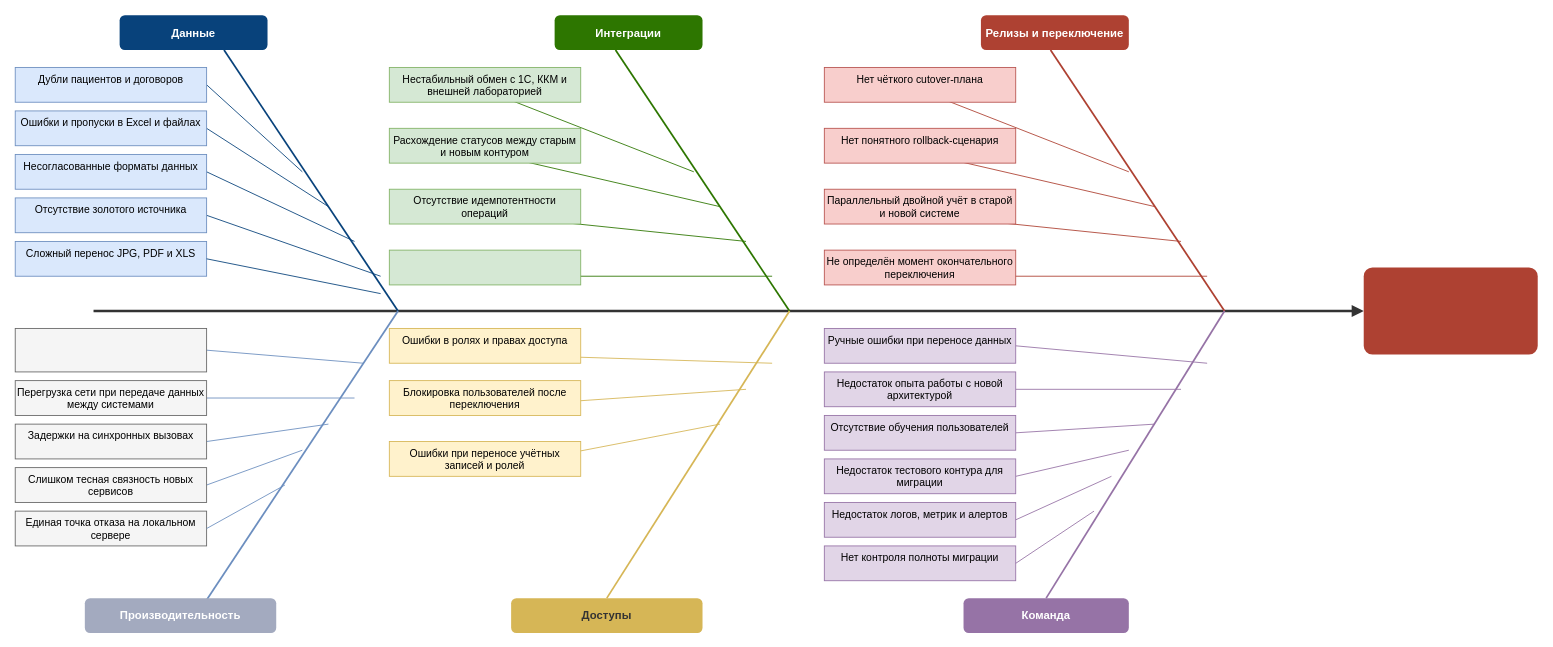
Image size: 1553x647. Some labels were removed from this diagram. The centre of each missing label's shape, as x and y in pixels:
"Нехватка CPU, RAM и диска при одновременной работе старого и нового контура" belongs at pixel 110 350.
"Ошибки в API-контрактах" belongs at pixel 484 267.
"Снижение производительности системы при миграции" belongs at pixel 1450 310.
